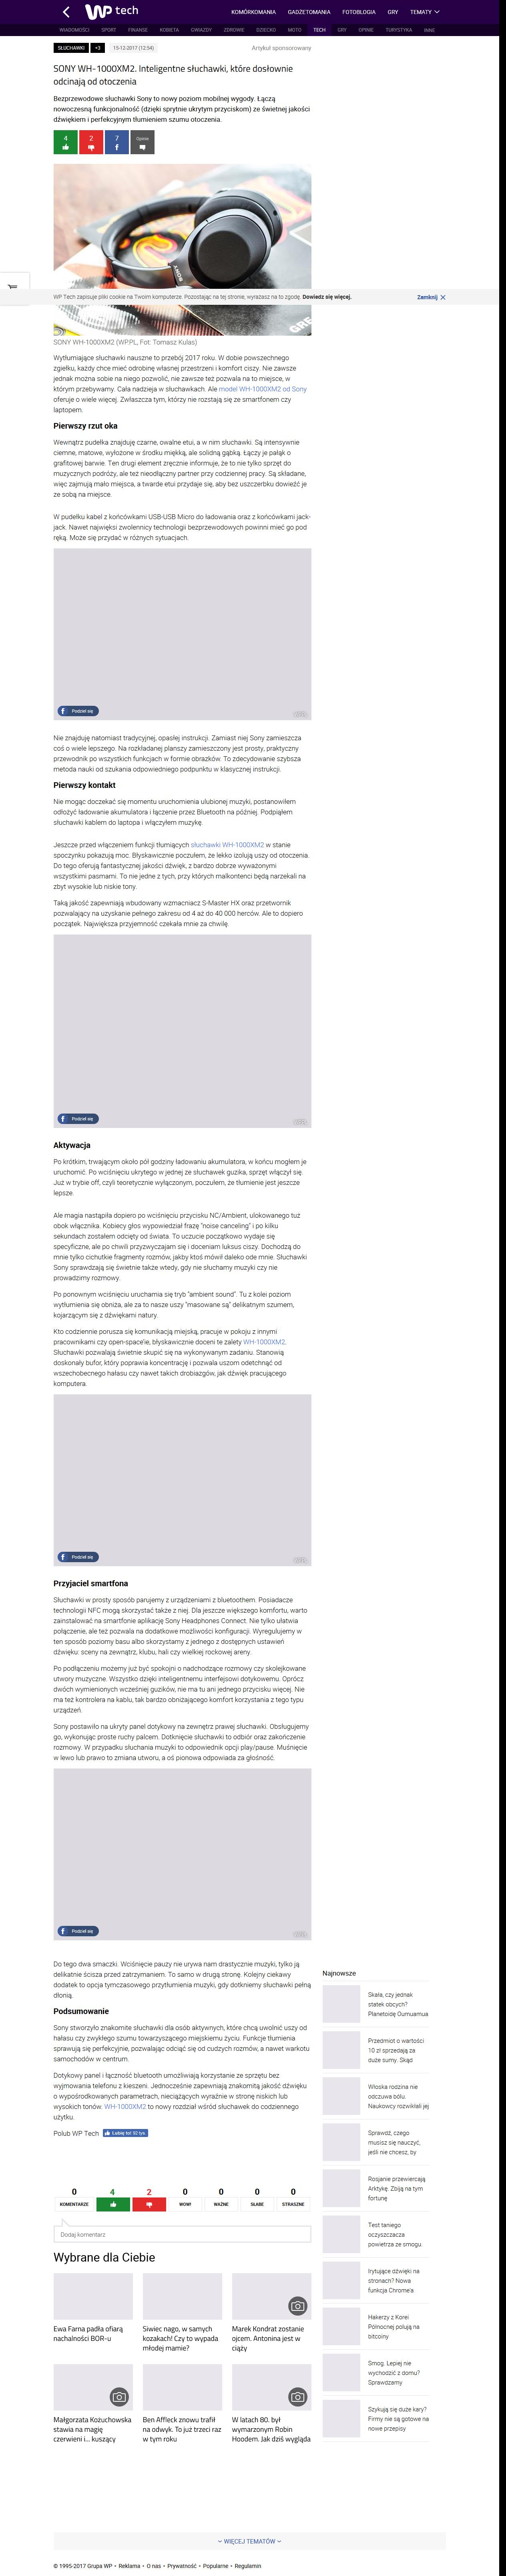title: (53, 64, 294, 85)
